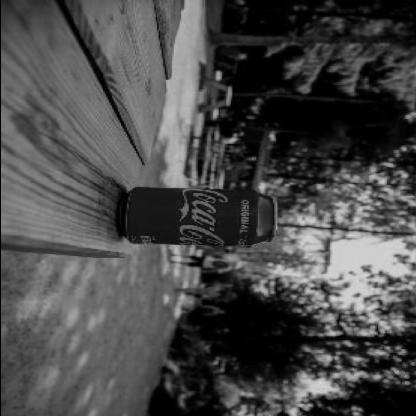alumunium_can: (118, 186, 280, 248)
